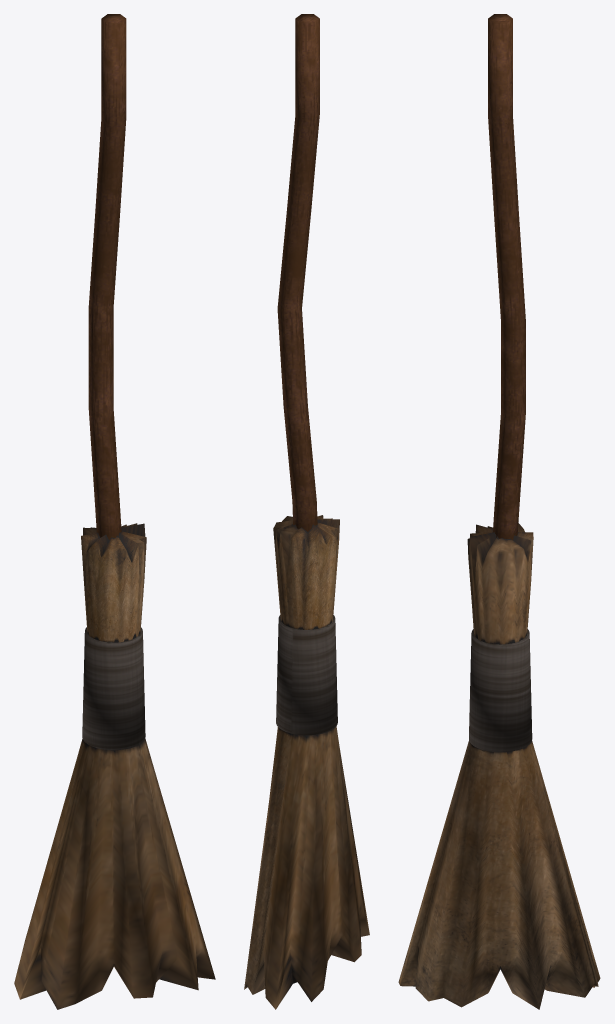
File: BroomLong.fbx
3 views of the same model, side by side, from view 1: azimuth 90°, elevation 25°; view 2: azimuth 150°, elevation 25°; view 3: azimuth 270°, elevation 25° (orthographic). The views are drawn at different scales.
Parts seen in each view (by area): view 1: BroomLong; view 2: BroomLong; view 3: BroomLong.
Boxes of the visible parts, x1=… form: BroomLong: x1=14, y1=14, x2=215, y2=1009; BroomLong: x1=244, y1=14, x2=369, y2=1009; BroomLong: x1=398, y1=14, x2=600, y2=1009.
Bounding box in the file's own units: 0.089 × 1.1 × 0.2068.
